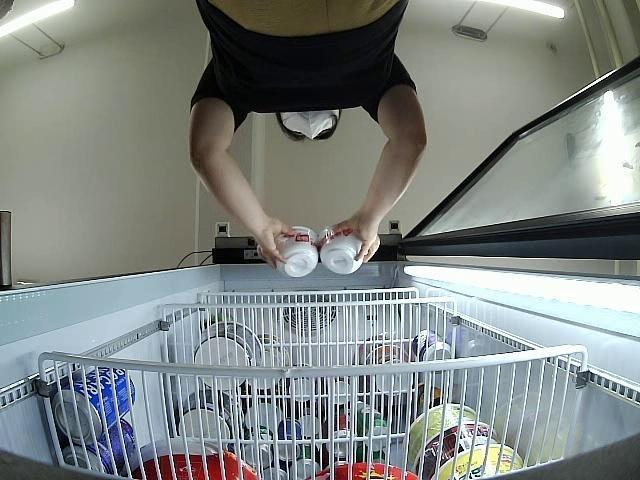09_yukGaeJang: (255, 224, 320, 276), (318, 222, 367, 276)
